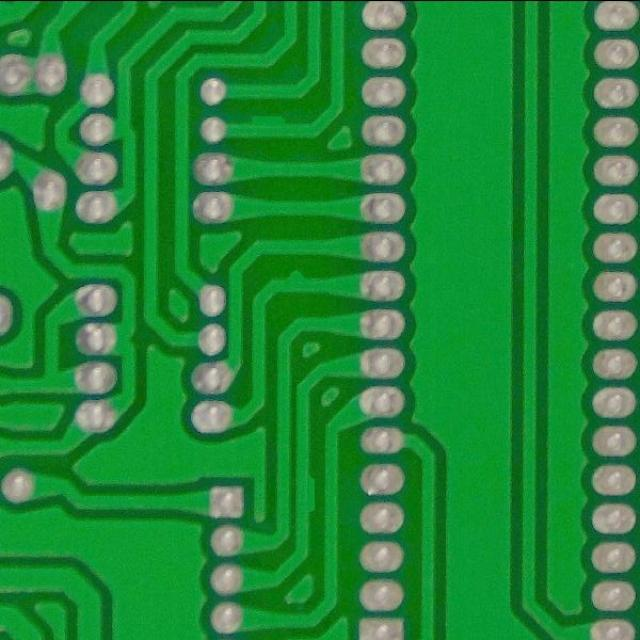Spur: (241, 110, 296, 146), (289, 468, 323, 522), (278, 263, 317, 300)
